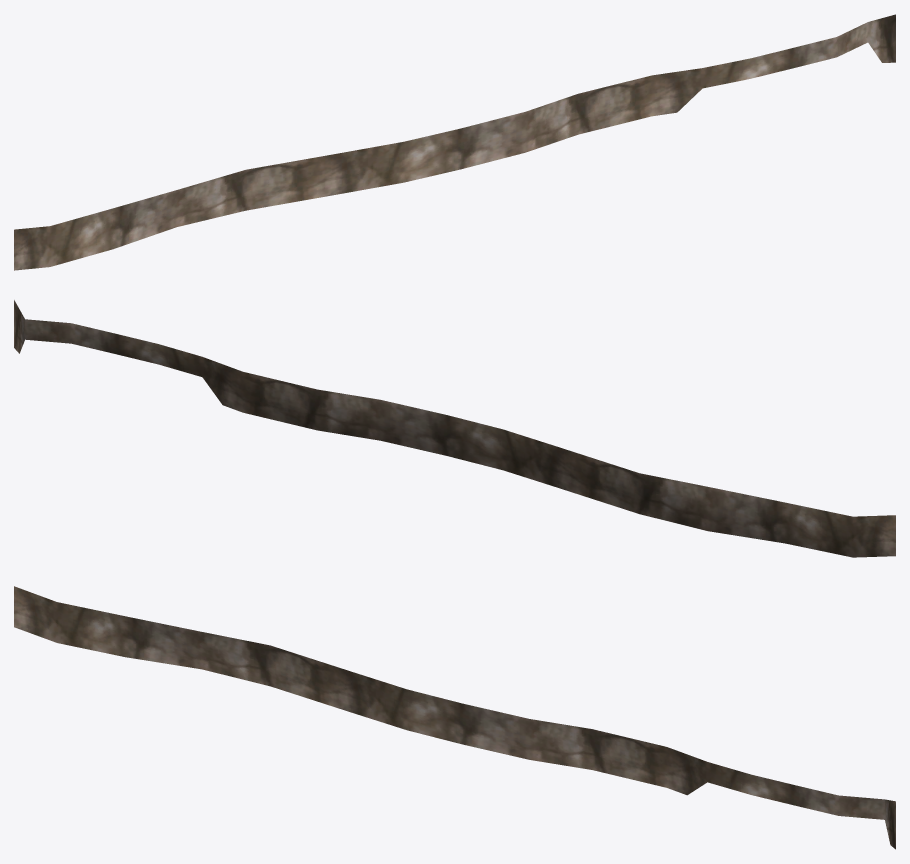
File: EKH_THRONE_PS_TH_RIVER_TRIM344.fbx
3 renders of one model, top to bottom at view 1: azimuth 30°, elevation 25°; view 2: azimuth 150°, elevation 25°; view 3: azimuth 330°, elevation 25°, orthographic.
Parts seen in each view (by area): view 1: EKH_THRONE_PS_TH_RIVER_TRIM344; view 2: EKH_THRONE_PS_TH_RIVER_TRIM344; view 3: EKH_THRONE_PS_TH_RIVER_TRIM344.
Part boxes in pixels (bbox=[...]): EKH_THRONE_PS_TH_RIVER_TRIM344: bbox=[14, 14, 895, 270]; EKH_THRONE_PS_TH_RIVER_TRIM344: bbox=[14, 300, 895, 557]; EKH_THRONE_PS_TH_RIVER_TRIM344: bbox=[14, 586, 895, 849].
Bounding box in the file's own units: 200582 × 10849 × 5071.
1 material, 1 textured.
